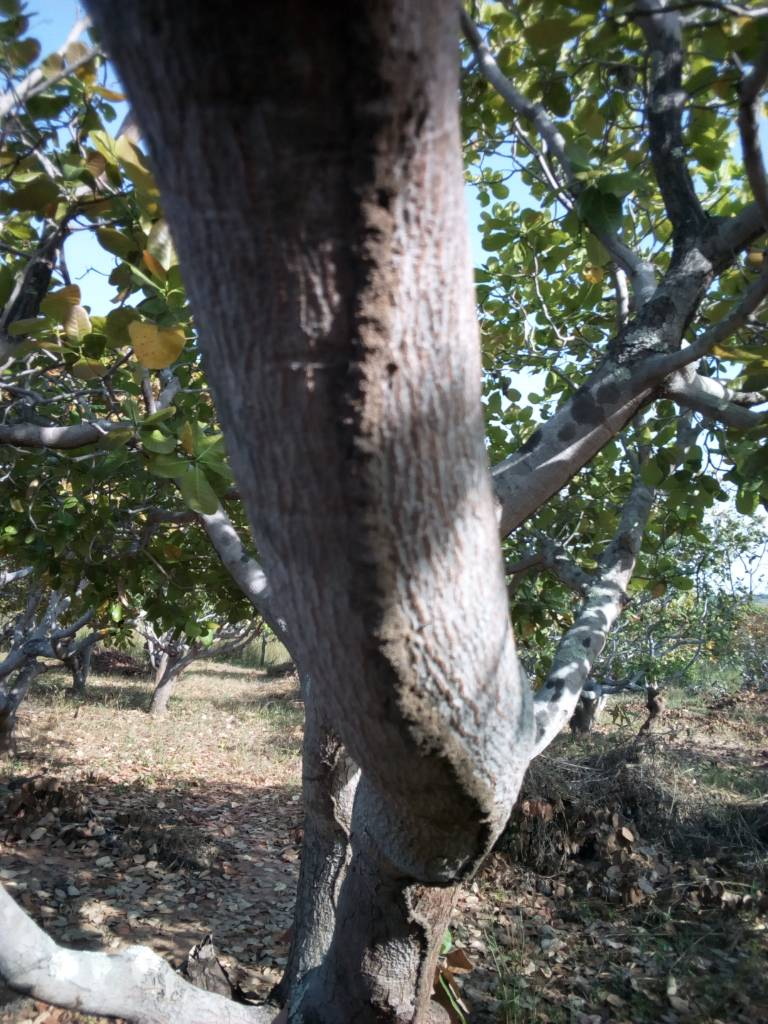Virose: (208, 34, 684, 883)
